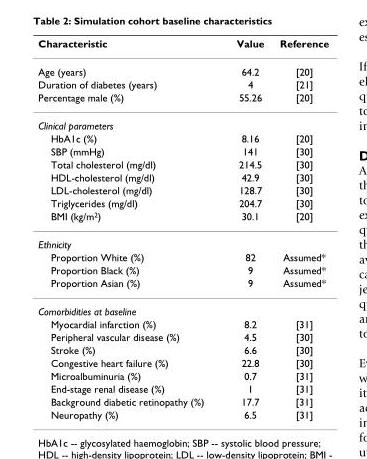table: (37, 36, 328, 420)
table column: (37, 36, 219, 420), (271, 36, 328, 420), (219, 36, 271, 420)
table column header: (37, 36, 328, 57)
table projected row header: (37, 229, 328, 250), (37, 296, 328, 317), (37, 111, 328, 131)
table row: (37, 36, 328, 57), (37, 90, 328, 111), (37, 229, 328, 250), (37, 296, 328, 317), (37, 57, 328, 77), (37, 111, 328, 131), (37, 209, 328, 229), (37, 276, 328, 296), (37, 77, 328, 90), (37, 131, 328, 144), (37, 144, 328, 157), (37, 157, 328, 170), (37, 170, 328, 183), (37, 183, 328, 196), (37, 196, 328, 209), (37, 250, 328, 263), (37, 263, 328, 276), (37, 317, 328, 330), (37, 330, 328, 343), (37, 343, 328, 356), (37, 356, 328, 369), (37, 381, 328, 394), (37, 394, 328, 407), (37, 407, 328, 420), (37, 369, 328, 381)
